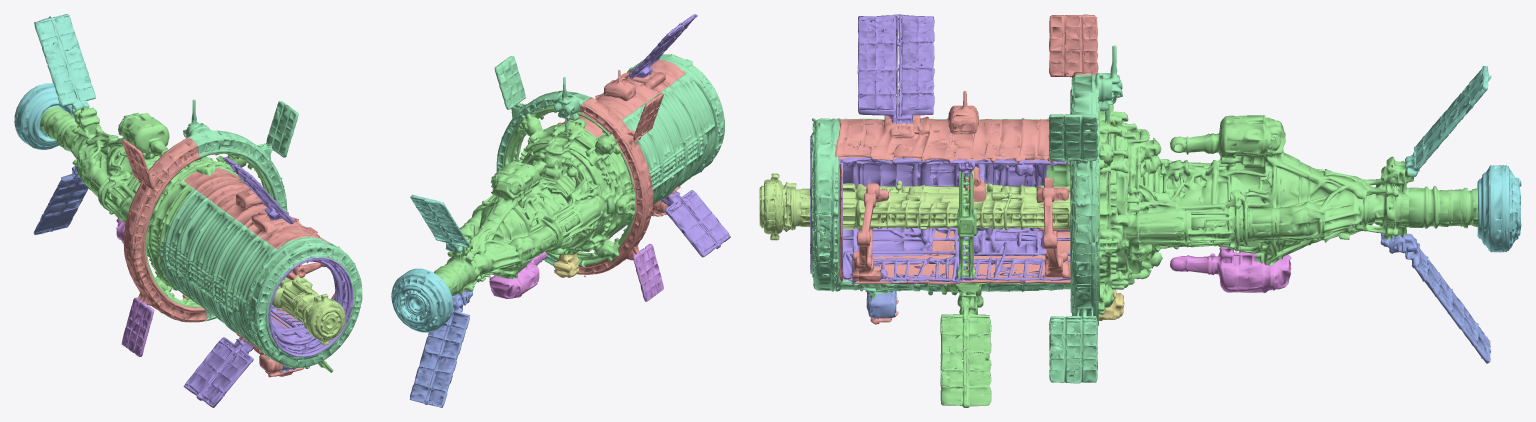
Rendered from seg_station_nodraco.glb.
The picture shows the model from 3 angles, left to right: view 1: azimuth 30°, elevation 25°; view 2: azimuth 150°, elevation 25°; view 3: azimuth 270°, elevation 25°; orthographic projection. The views are drawn at different scales.
Visible parts, largest first — view 1: part_20_primitive0, part_15_primitive0, part_0_primitive0, part_19_primitive0, part_2_primitive0, part_21_primitive0, part_25_primitive0, part_14_primitive0, part_27_primitive0, part_22_primitive0, part_23_primitive0, part_30_primitive0 (+3 smaller); view 2: part_15_primitive0, part_20_primitive0, part_0_primitive0, part_23_primitive0, part_19_primitive0, part_22_primitive0, part_2_primitive0, part_27_primitive0, part_21_primitive0, part_31_primitive0, part_30_primitive0, part_26_primitive0 (+1 smaller); view 3: part_15_primitive0, part_25_primitive0, part_19_primitive0, part_14_primitive0, part_2_primitive0, part_26_primitive0, part_20_primitive0, part_17_primitive0, part_31_primitive0, part_22_primitive0, part_0_primitive0, part_23_primitive0 (+7 smaller).
Part boxes in pixels (bbox=[...]): part_20_primitive0: bbox=[159, 186, 362, 368]; part_15_primitive0: bbox=[40, 106, 273, 307]; part_0_primitive0: bbox=[121, 137, 208, 322]; part_19_primitive0: bbox=[183, 99, 298, 321]; part_2_primitive0: bbox=[184, 168, 329, 249]; part_21_primitive0: bbox=[34, 14, 95, 113]; part_25_primitive0: bbox=[197, 191, 353, 357]; part_14_primitive0: bbox=[272, 270, 345, 345]; part_27_primitive0: bbox=[183, 337, 254, 407]; part_22_primitive0: bbox=[14, 83, 74, 149]; part_23_primitive0: bbox=[33, 165, 88, 235]; part_30_primitive0: bbox=[121, 297, 154, 357]; part_15_primitive0: bbox=[427, 107, 640, 303]; part_20_primitive0: bbox=[593, 54, 724, 238]; part_0_primitive0: bbox=[578, 92, 664, 274]; part_23_primitive0: bbox=[409, 288, 472, 407]; part_19_primitive0: bbox=[494, 56, 590, 265]; part_22_primitive0: bbox=[391, 268, 453, 332]; part_2_primitive0: bbox=[557, 59, 685, 137]; part_27_primitive0: bbox=[662, 190, 730, 257]; part_21_primitive0: bbox=[410, 194, 469, 252]; part_31_primitive0: bbox=[489, 252, 546, 298]; part_30_primitive0: bbox=[633, 244, 663, 301]; part_26_primitive0: bbox=[629, 14, 697, 78]; part_15_primitive0: bbox=[1069, 92, 1478, 314]; part_25_primitive0: bbox=[810, 135, 1070, 283]; part_19_primitive0: bbox=[1048, 45, 1122, 383]; part_14_primitive0: bbox=[759, 173, 1110, 240]; part_2_primitive0: bbox=[834, 91, 1054, 162]; part_26_primitive0: bbox=[857, 14, 934, 124]; part_20_primitive0: bbox=[810, 118, 1070, 299]; part_17_primitive0: bbox=[940, 283, 991, 407]; part_31_primitive0: bbox=[1170, 247, 1291, 292]; part_22_primitive0: bbox=[1477, 165, 1521, 252]; part_0_primitive0: bbox=[1049, 14, 1098, 317]; part_23_primitive0: bbox=[1380, 233, 1490, 363].
Bounding box in the file's own units: 0.3169 × 0.4663 × 1.
